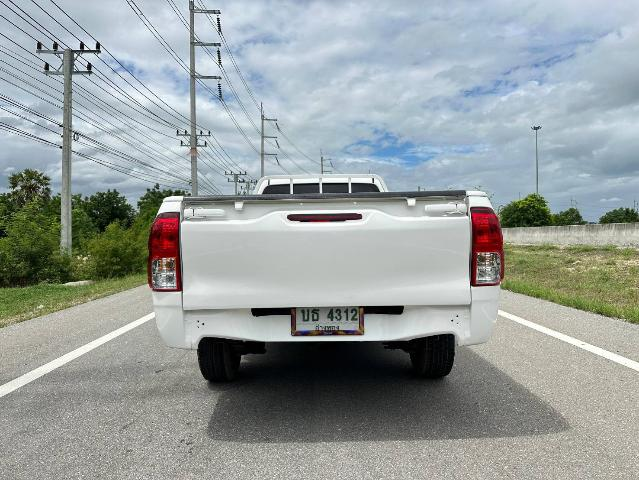pickup-truck: (145, 164, 513, 393)
